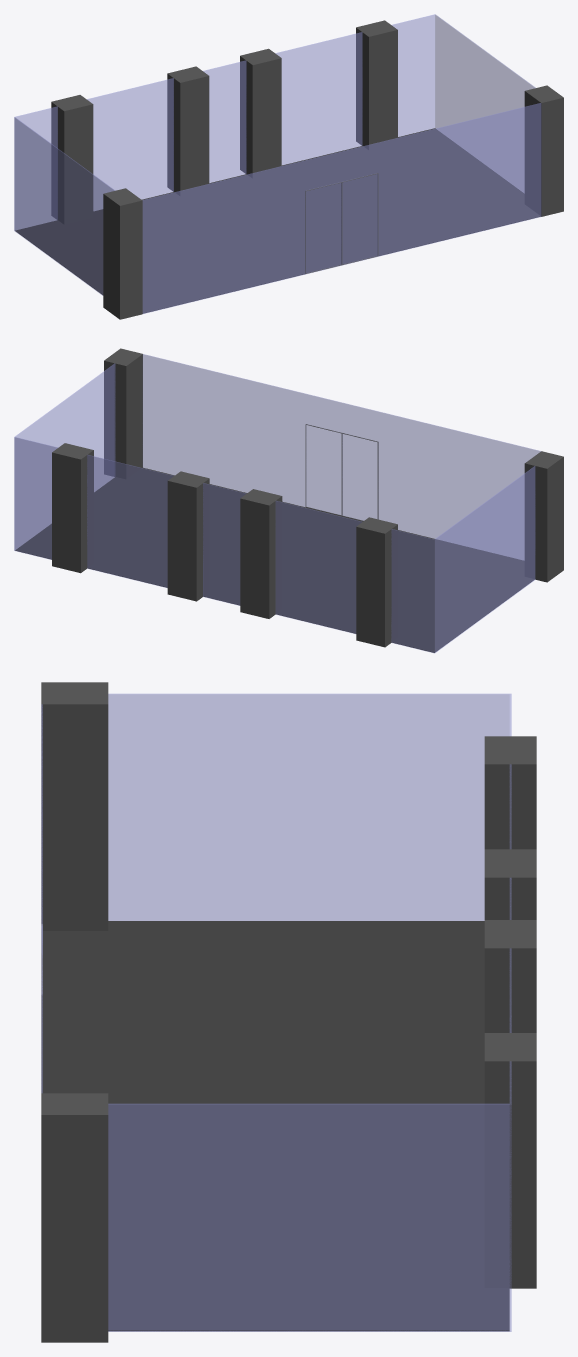
File: classroom.dae
3 views of the same model, one above another, from view 1: azimuth 30°, elevation 25°; view 2: azimuth 150°, elevation 25°; view 3: azimuth 270°, elevation 25° (orthographic). The views are drawn at different scales.
Parts seen in each view (by area): view 1: Body13, Body12, Body8, Body10, Body7, Body9, Body4, Body2, Body3, Body1, Body5, Body6 (+3 smaller); view 2: Body12, Body13, Body10, Body8, Body9, Body7, Body4, Body1, Body2, Body3, Body5, Body6 (+3 smaller); view 3: Body13, Body8, Body10, Body6, Body5, Body3, Body2, Body1, Body4.
Boxes of the visible parts, x1,y1,x2,y2 form: Body13: [15, 128, 540, 313]; Body12: [142, 103, 541, 313]; Body8: [392, 14, 535, 192]; Body10: [14, 106, 114, 295]; Body7: [275, 32, 362, 165]; Body9: [87, 78, 173, 210]; Body4: [167, 66, 209, 196]; Body2: [51, 95, 93, 224]; Body3: [356, 20, 397, 150]; Body1: [240, 48, 281, 178]; Body5: [103, 188, 142, 319]; Body6: [524, 85, 563, 216]; Body12: [143, 354, 540, 559]; Body13: [15, 467, 534, 652]; Body10: [391, 466, 535, 653]; Body8: [14, 363, 115, 559]; Body9: [275, 501, 361, 633]; Body7: [87, 455, 173, 587]; Body4: [240, 489, 282, 618]; Body1: [167, 471, 209, 601]; Body2: [356, 517, 397, 647]; Body3: [52, 443, 93, 573]; Body5: [524, 451, 563, 582]; Body6: [104, 348, 142, 479]; Body13: [43, 921, 509, 1331]; Body8: [108, 1061, 511, 1331]; Body10: [108, 693, 511, 920]; Body6: [41, 1093, 108, 1342]; Body5: [41, 682, 108, 930]; Body3: [484, 1033, 536, 1288]; Body2: [484, 736, 536, 849]; Body1: [484, 920, 536, 1032]; Body4: [484, 849, 536, 919].
Bounding box in the file's own units: 12.24 × 5.92 × 3.
